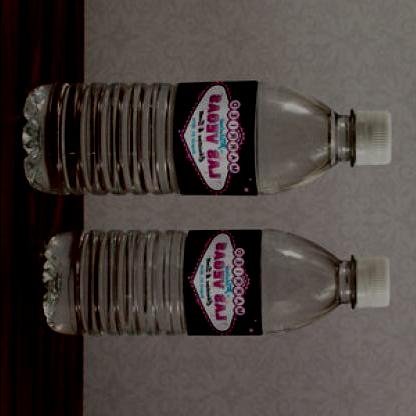bottle: (15, 73, 402, 203), (36, 219, 401, 340)
